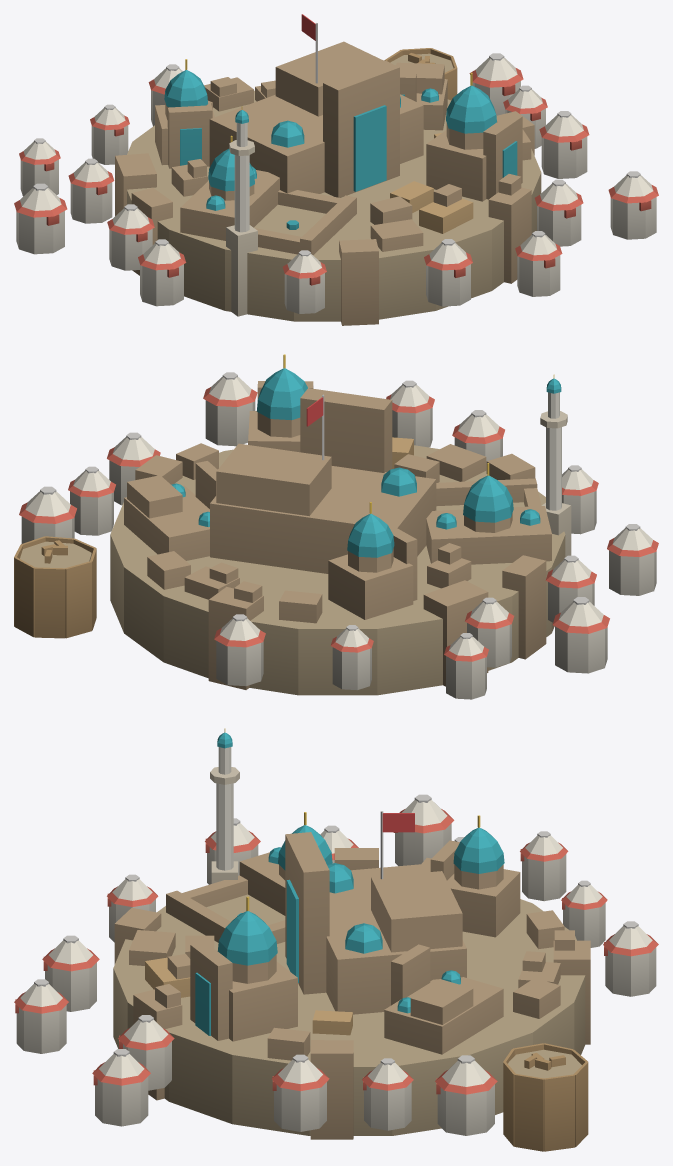
Rendered from city_steppe_b.glb.
3 views of the same model, one above another, from view 1: azimuth 30°, elevation 25°; view 2: azimuth 150°, elevation 25°; view 3: azimuth 270°, elevation 25° (orthographic). The views are drawn at different scales.
Parts seen in each view (by area): view 1: city_steppe_b; view 2: city_steppe_b; view 3: city_steppe_b.
Part boxes in pixels (x1=…): city_steppe_b: x1=14, y1=14, x2=658, y2=325; city_steppe_b: x1=14, y1=354, x2=658, y2=699; city_steppe_b: x1=14, y1=728, x2=658, y2=1151.
Bounding box in the file's own units: 3.29 × 1.23 × 3.12.
